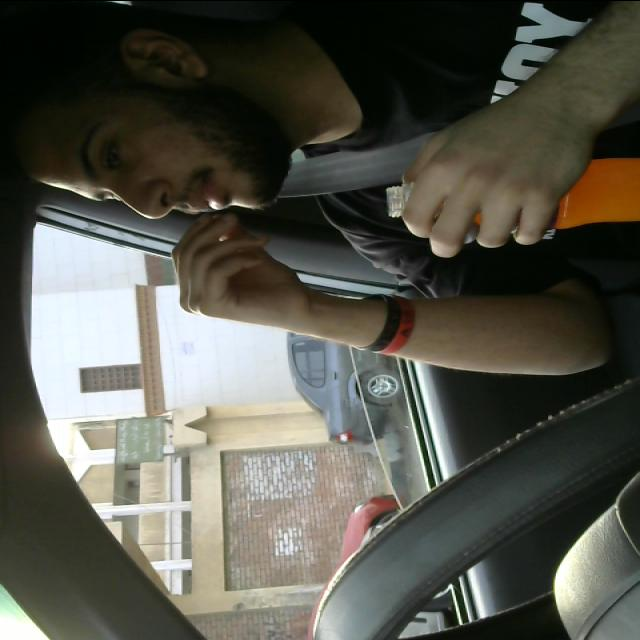drinking: (380, 152, 637, 226)
